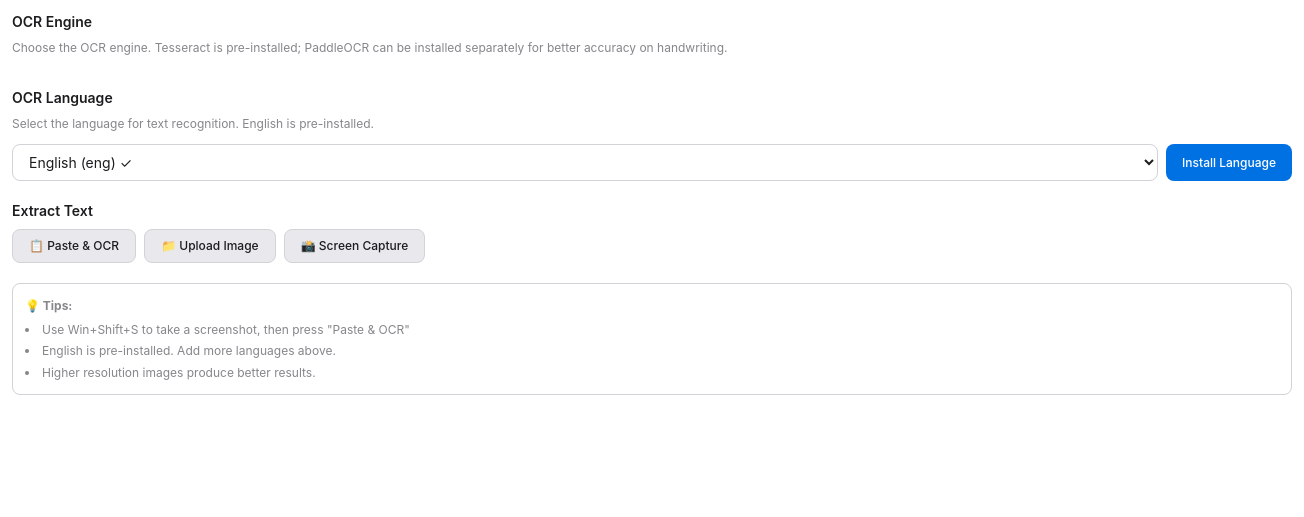
OCRConfig › shows browser-mode message when Paste & OCR clicked outside Tauri
This screenshot has width=1304, height=517.
Click the button "📋 Paste & OCR": point(74, 246) [12, 229, 136, 263]
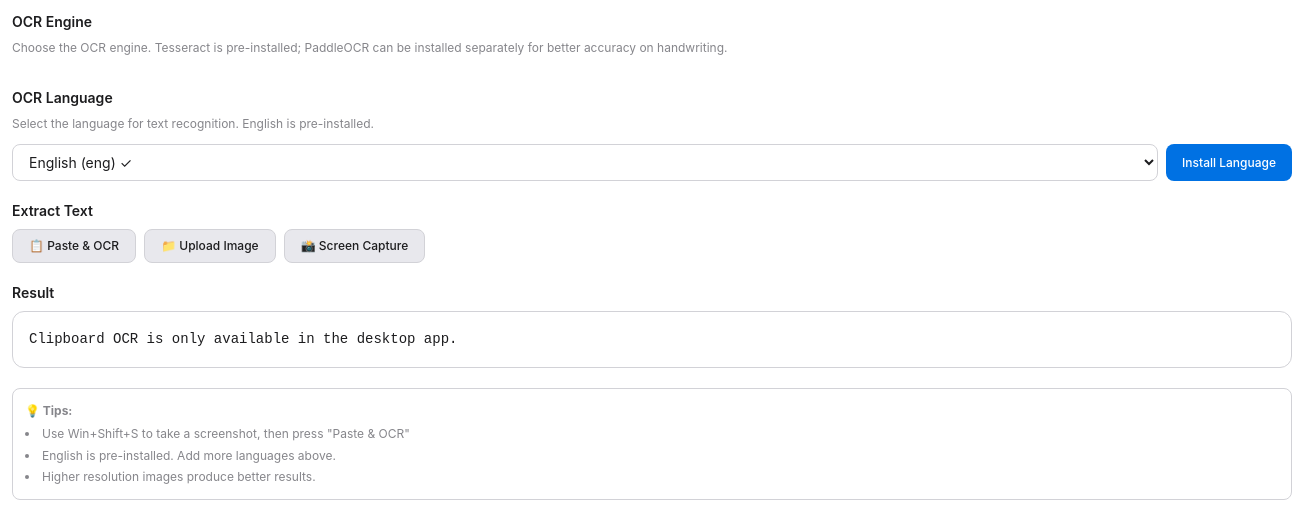
Expected: the text "Clipboard OCR is only available in the desktop app." is shown, [12, 311, 1292, 368]
